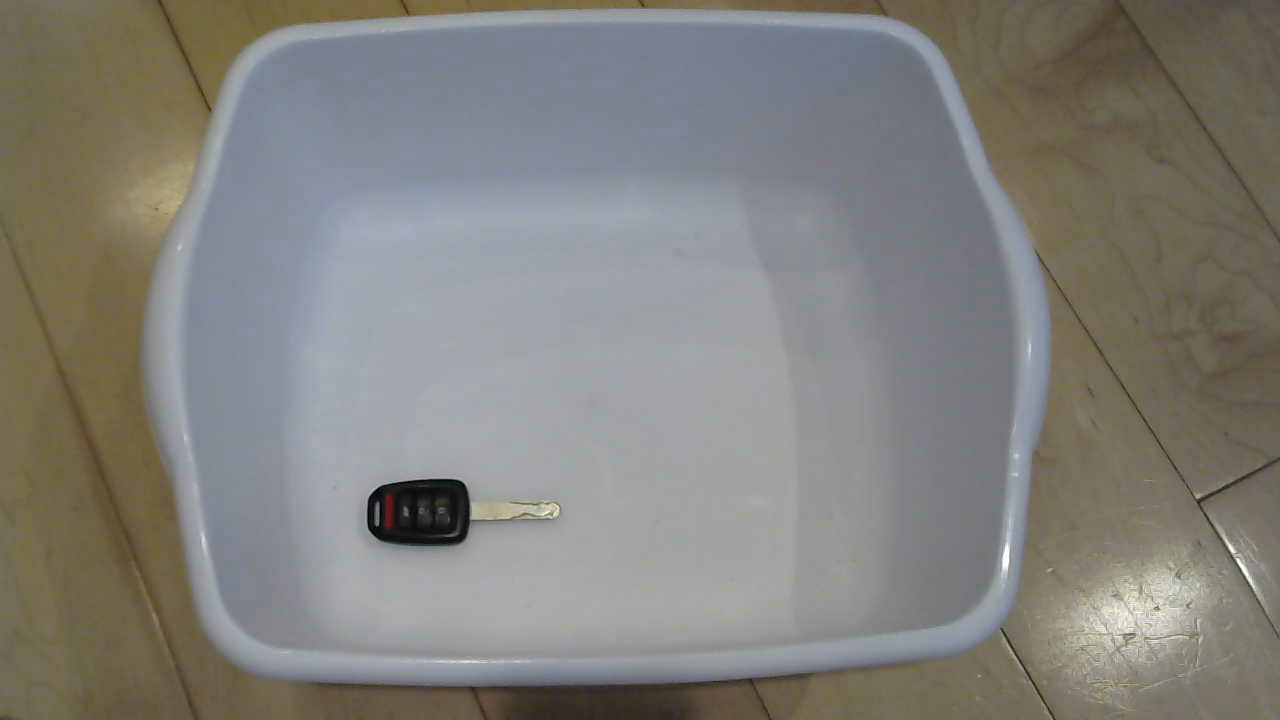key: (367, 469, 573, 558)
